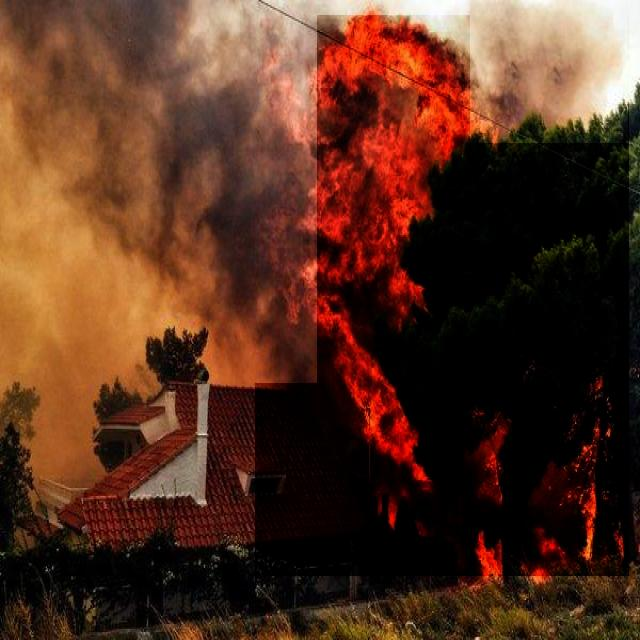Fire: (255, 15, 629, 576)
Smoke: (0, 0, 317, 383), (470, 0, 628, 143)
